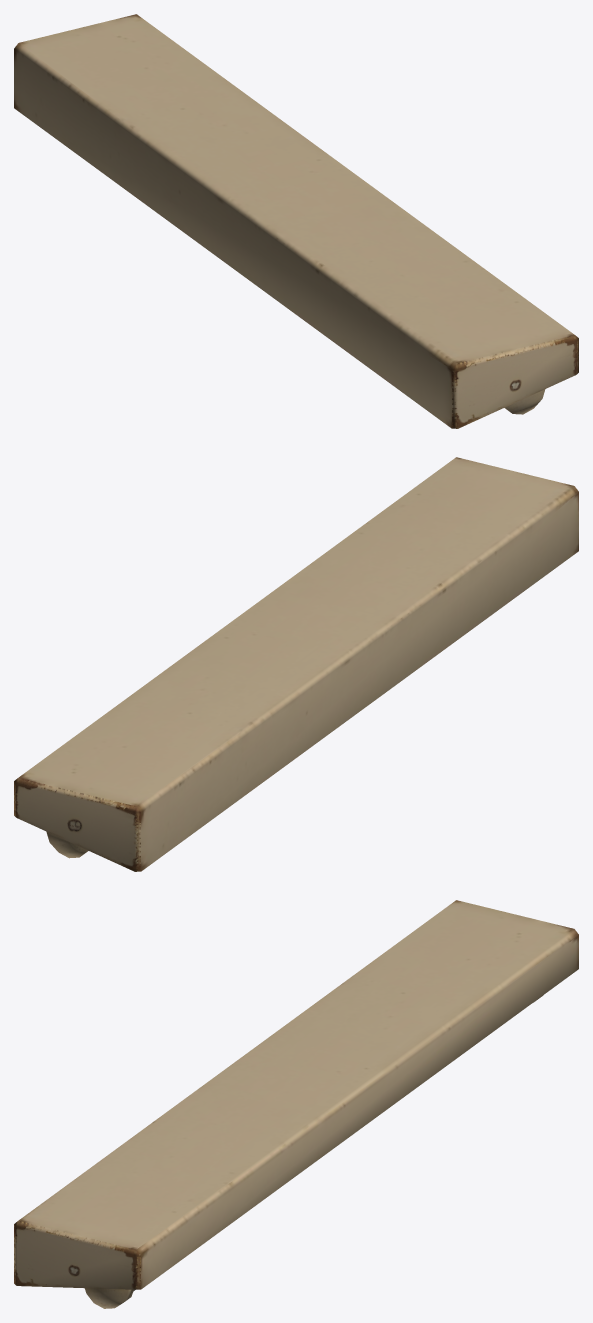
File: fluorescent-batten.glb
3 views of the same model, one above another, from view 1: azimuth 30°, elevation 25°; view 2: azimuth 150°, elevation 25°; view 3: azimuth 330°, elevation 25° (orthographic).
Parts seen in each view (by area): view 1: tripo_node_90ef6192-7858-4e38-bc9c-62111328722e; view 2: tripo_node_90ef6192-7858-4e38-bc9c-62111328722e; view 3: tripo_node_90ef6192-7858-4e38-bc9c-62111328722e.
Part boxes in pixels (<box>): tripo_node_90ef6192-7858-4e38-bc9c-62111328722e: <box>14,14,578,428</box>; tripo_node_90ef6192-7858-4e38-bc9c-62111328722e: <box>14,457,578,871</box>; tripo_node_90ef6192-7858-4e38-bc9c-62111328722e: <box>14,900,578,1308</box>.
Bounding box in the file's own units: 0.166 × 0.0957 × 0.998.
Materials: 1 (1 with a texture image).
